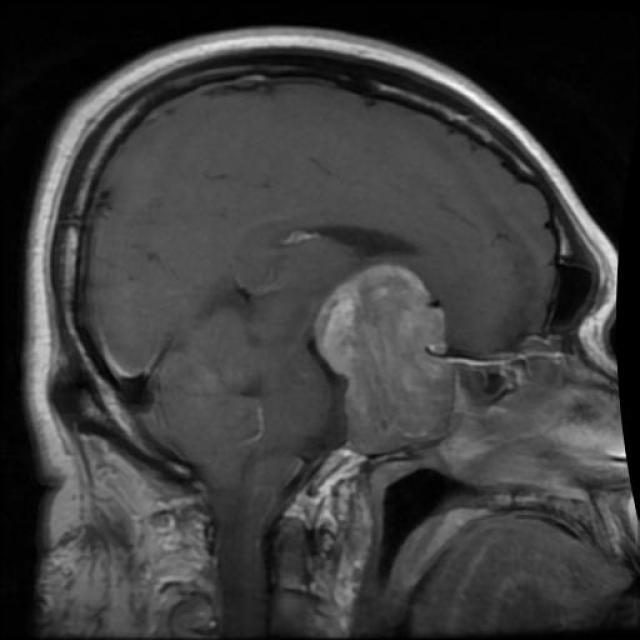pituitary: (310, 258, 456, 454)
